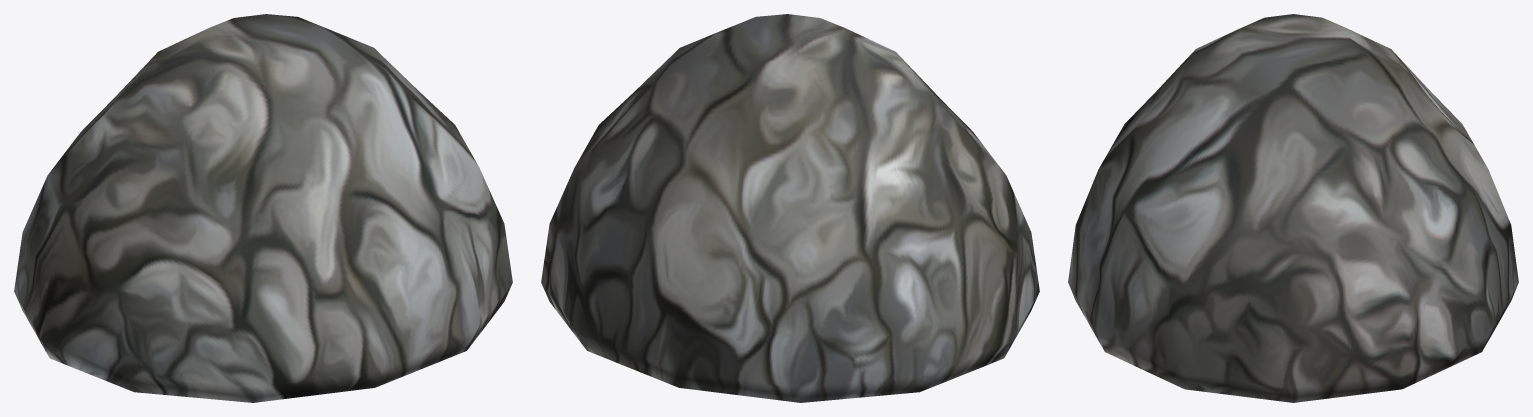
File: Stone_02.fbx
3 views of the same model, side by side, from view 1: azimuth 30°, elevation 25°; view 2: azimuth 150°, elevation 25°; view 3: azimuth 270°, elevation 25° (orthographic). The views are drawn at different scales.
Parts seen in each view (by area): view 1: Stone_02; view 2: Stone_02; view 3: Stone_02.
Boxes of the visible parts, x1,y1,x2,y2 form: Stone_02: [14, 14, 512, 402]; Stone_02: [541, 14, 1039, 402]; Stone_02: [1068, 14, 1518, 402].
Size of the model in its own units: 38.71 by 22.79 by 34.98.
